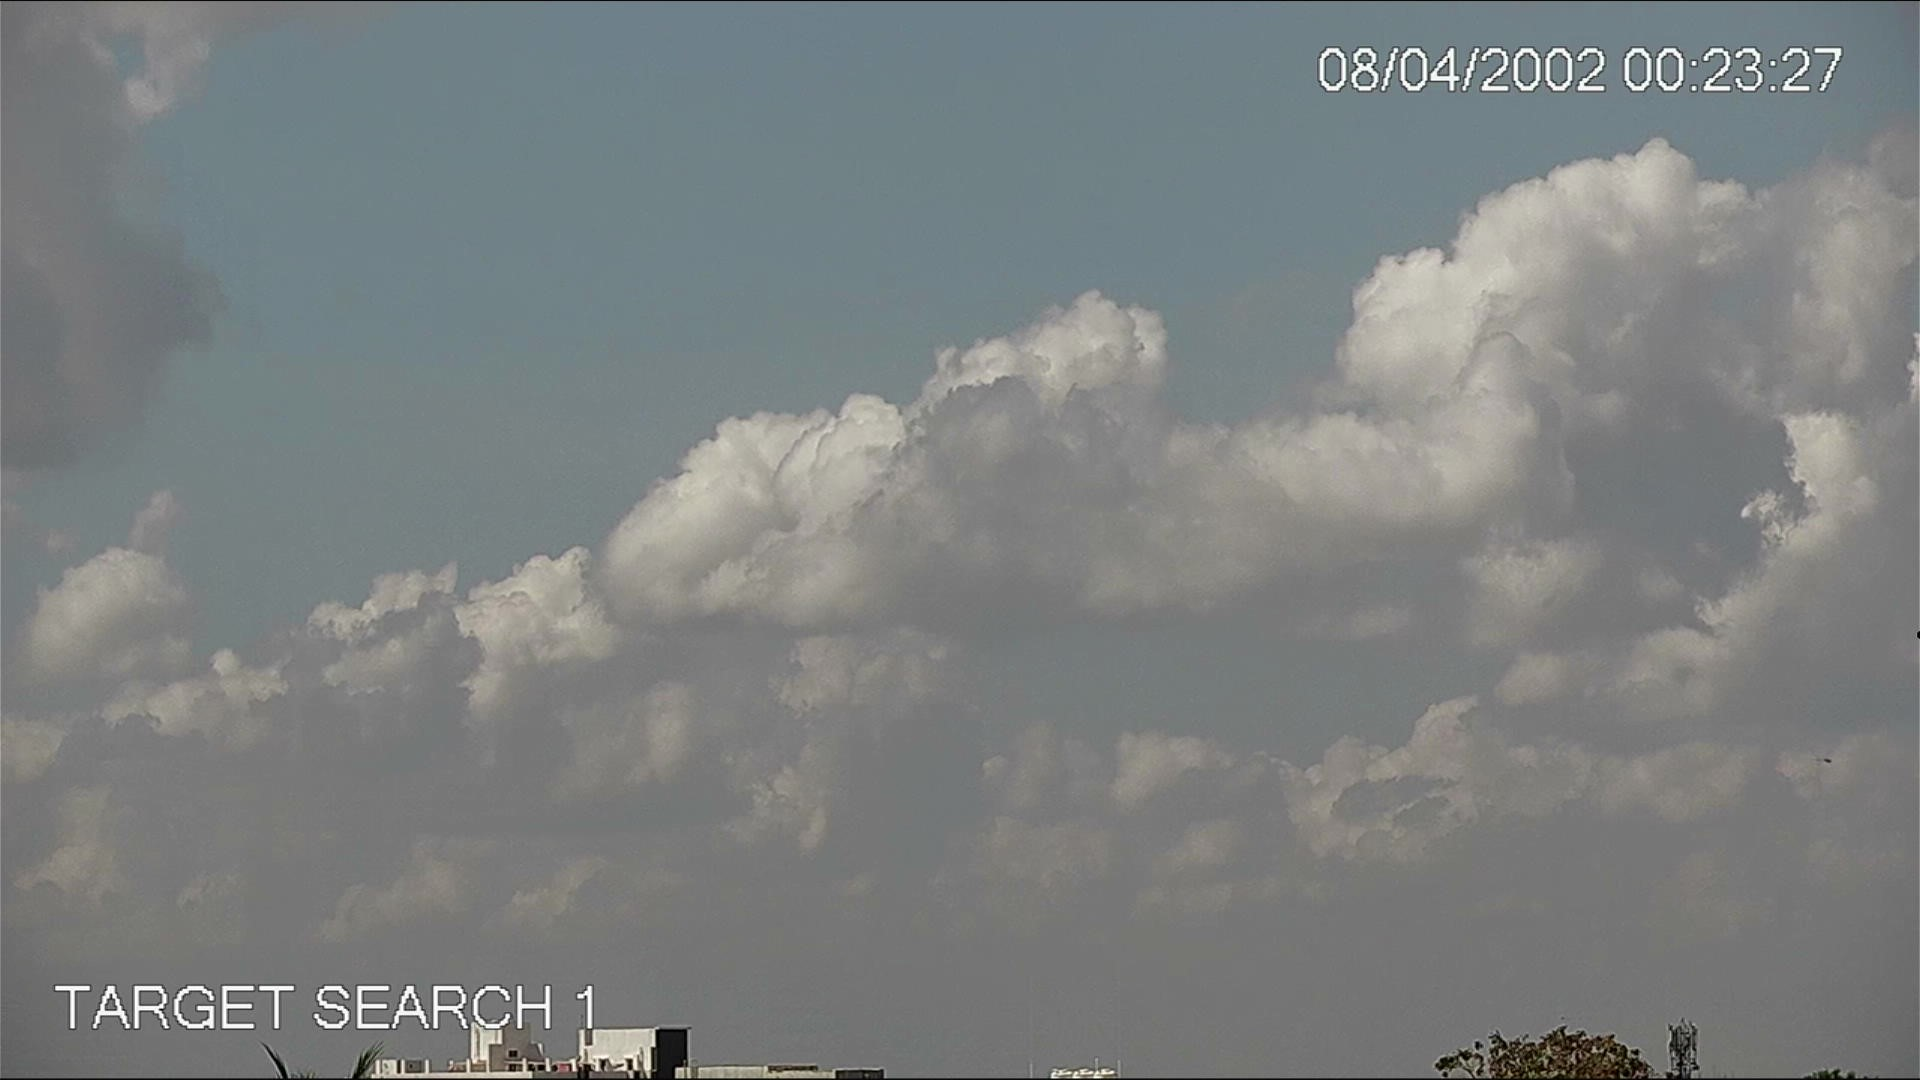SU_30: (1813, 753, 1834, 767)
